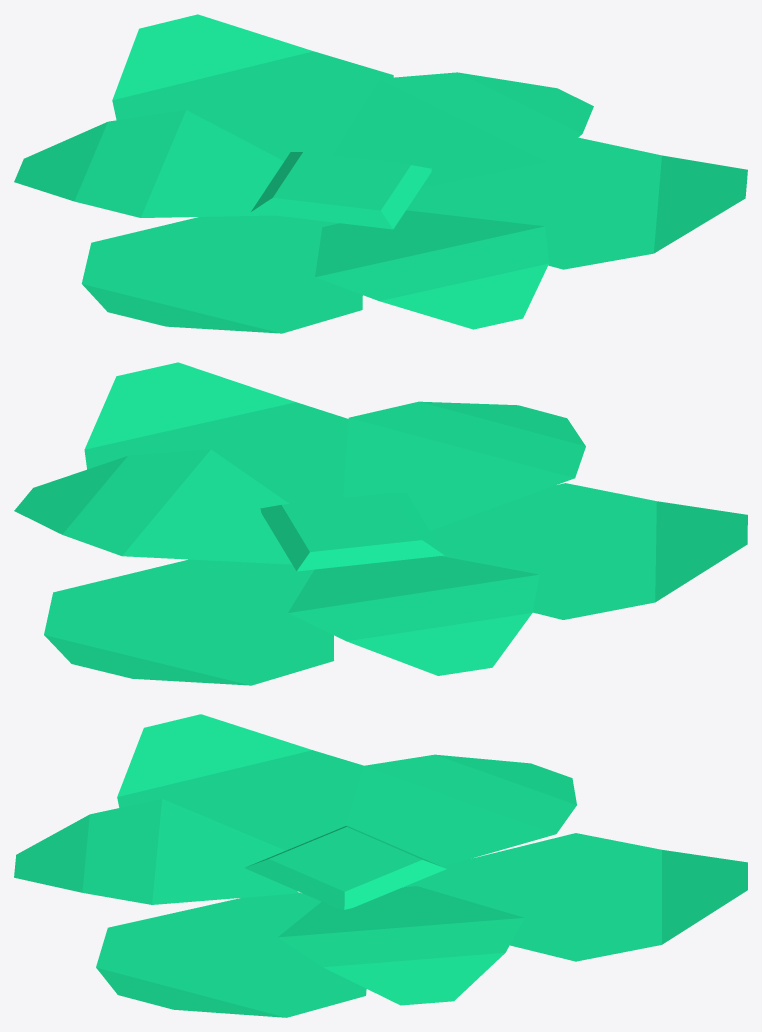
Rendered from SM_Flower3.fbx.
3 views of the same model, one above another, from view 1: azimuth 30°, elevation 25°; view 2: azimuth 150°, elevation 25°; view 3: azimuth 270°, elevation 25° (orthographic). The views are drawn at different scales.
Visible parts, largest first — view 1: flower Sristy.003; view 2: flower Sristy.003; view 3: flower Sristy.003.
Part boxes in pixels (x1,y1,x2,y2): flower Sristy.003: (14,14,747,333); flower Sristy.003: (14,362,747,685); flower Sristy.003: (14,714,747,1017).
Bounding box in the file's own units: 81.1 × 3.17 × 85.08.
